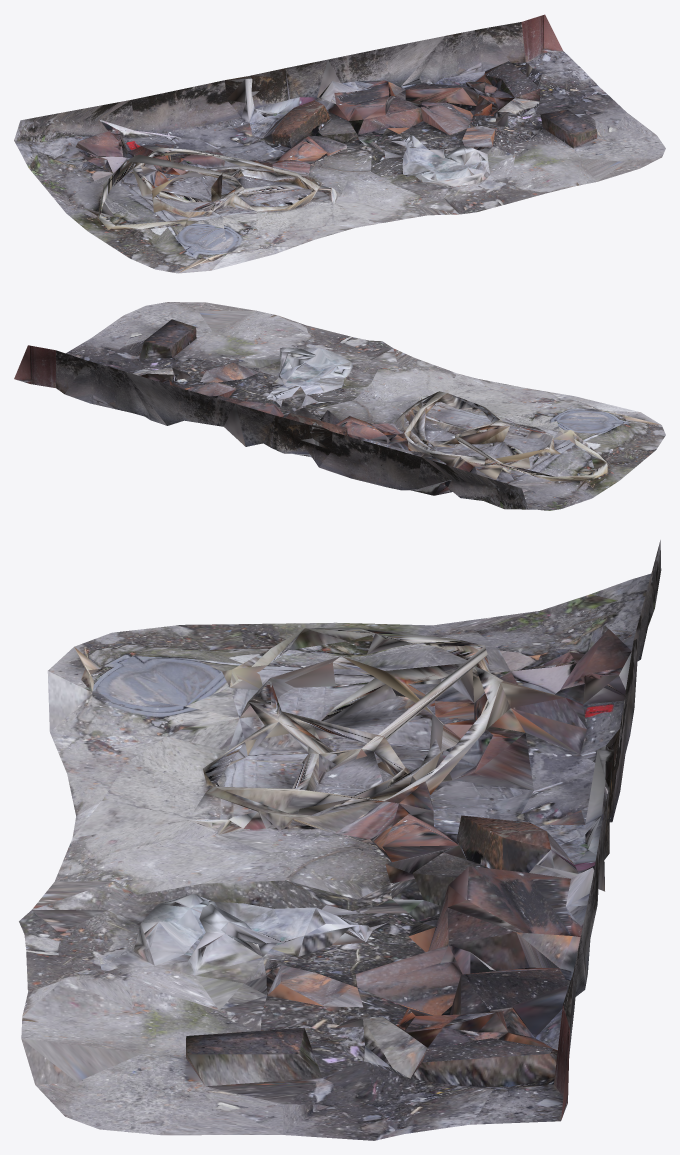
File: Scan Garbage pile in the corner2.fbx
The picture shows the model from 3 angles, top to bottom: view 1: azimuth 30°, elevation 25°; view 2: azimuth 150°, elevation 25°; view 3: azimuth 270°, elevation 25°; orthographic projection. The views are drawn at different scales.
Visible parts, largest first — view 1: Scan Garbage pile in the corner2; view 2: Scan Garbage pile in the corner2; view 3: Scan Garbage pile in the corner2.
Boxes of the visible parts, bbox=[...] form: Scan Garbage pile in the corner2: bbox=[14, 14, 665, 273]; Scan Garbage pile in the corner2: bbox=[14, 302, 665, 510]; Scan Garbage pile in the corner2: bbox=[19, 540, 661, 1140].
Size of the model in its own units: 192 by 16.88 by 100.
Materials: 1 (1 with a texture image).
